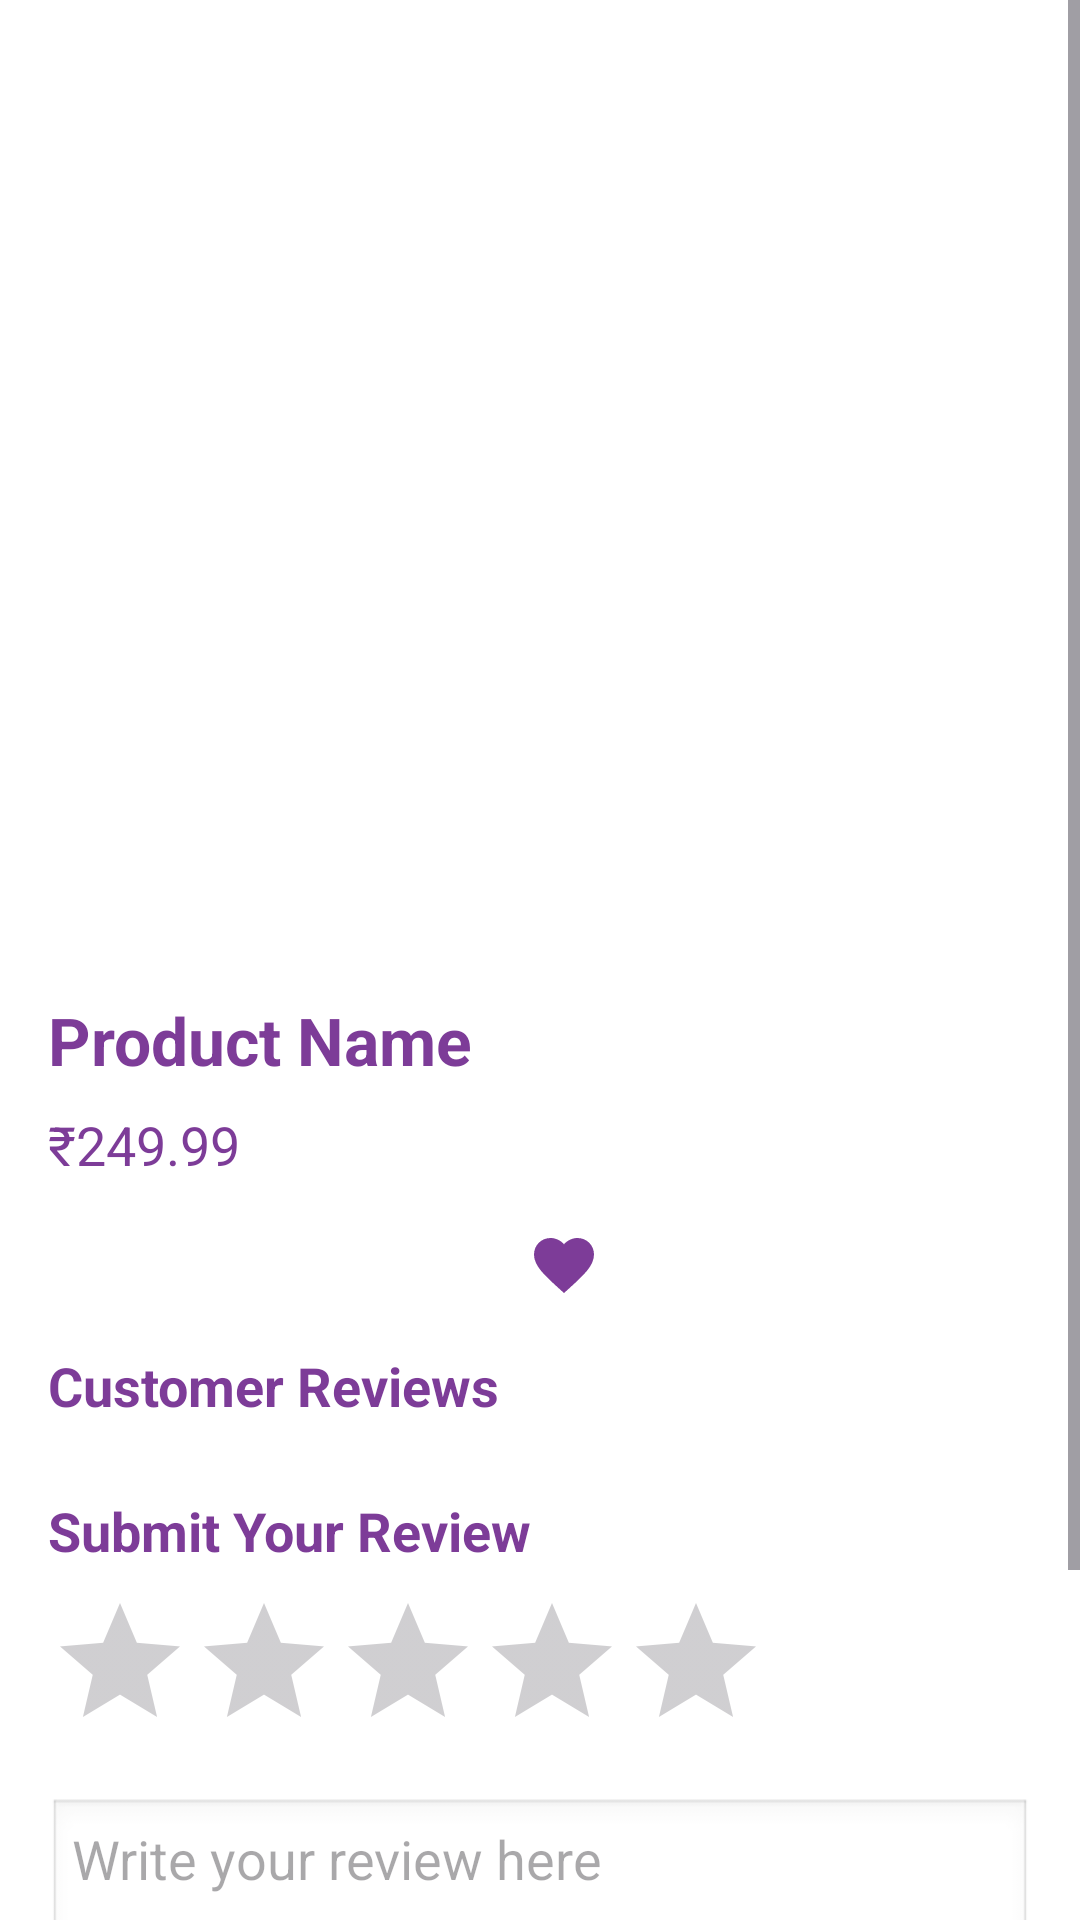

Locate icon controls on the screen. Image size 1080*1920, boxes as bbox=[x1, y1, x2, y2].
Add to wishlist: bbox=[534, 1238, 594, 1293]
